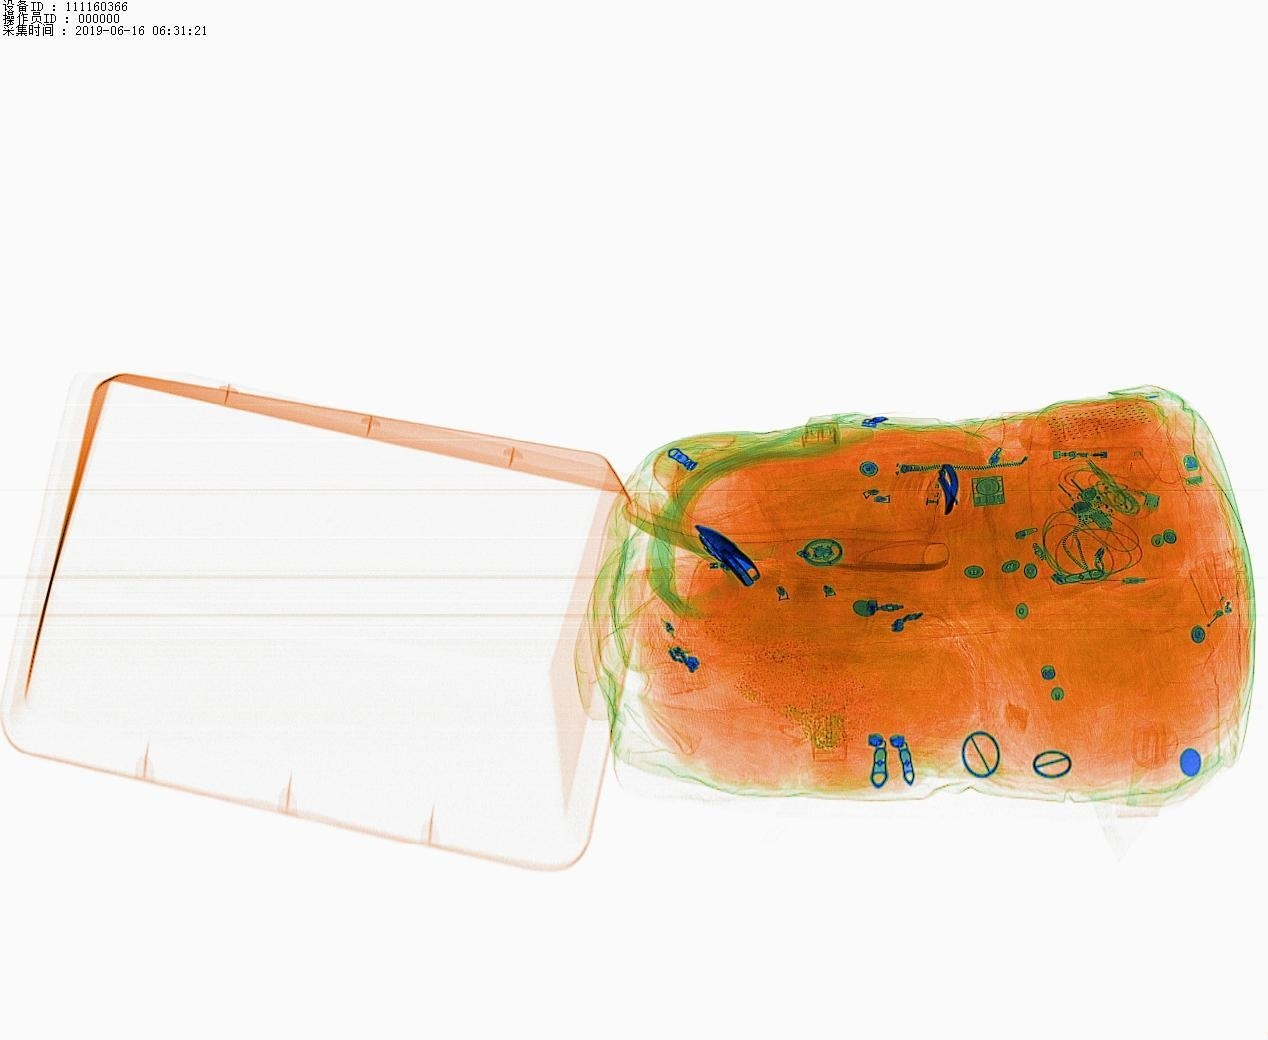NonmetallicFire: (1033, 432, 1168, 483)
